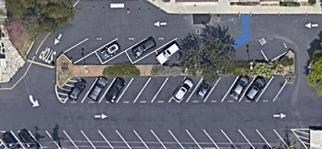parkingspot: (61, 74, 289, 105), (62, 37, 296, 67), (0, 127, 310, 149)
